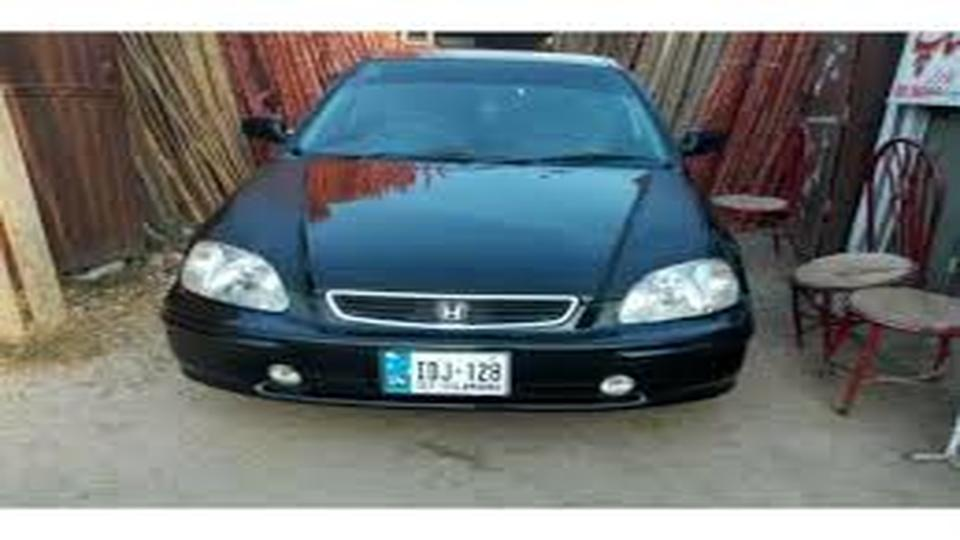NumberPlate: (373, 350, 518, 401)
